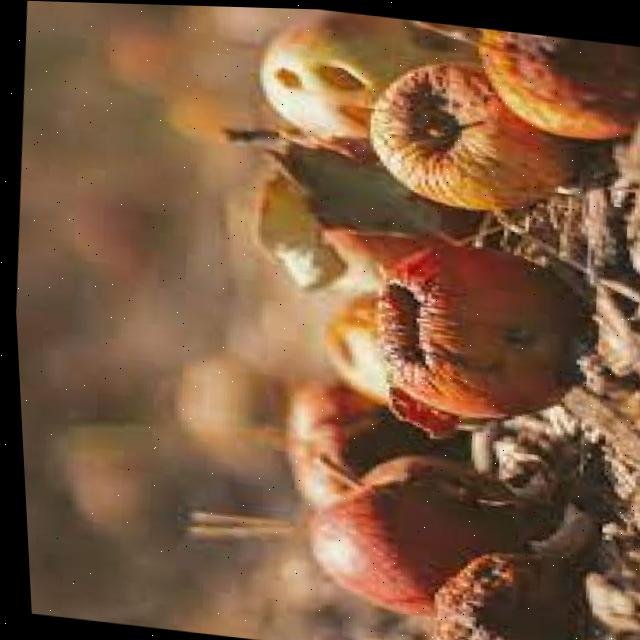Wet: (137, 3, 640, 640), (343, 223, 598, 457)
